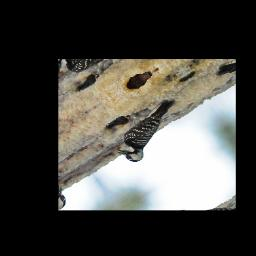Woodpecker: (101, 91, 196, 169)
